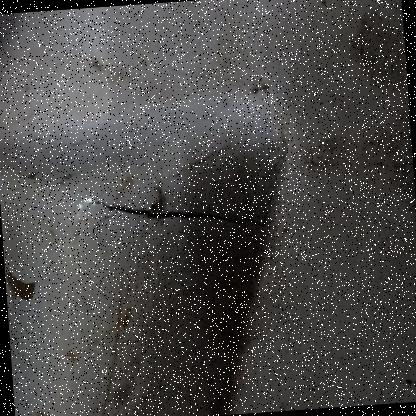Crack: (52, 164, 288, 280), (1, 218, 81, 415)
